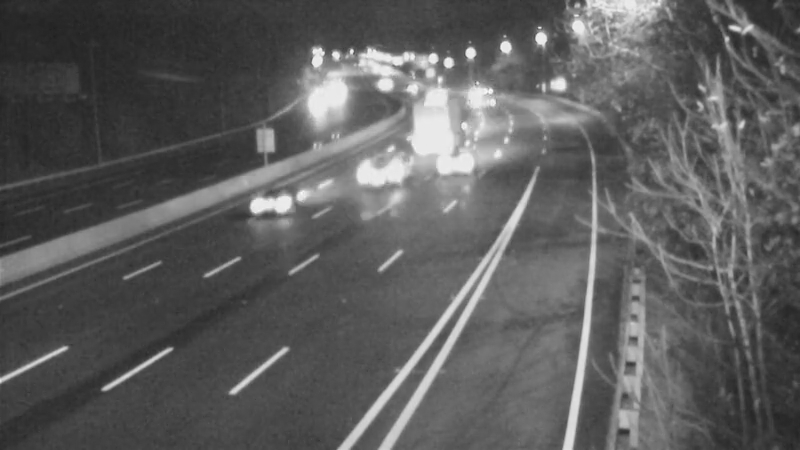vehicle: (420, 123, 500, 203), (345, 127, 425, 207), (228, 167, 308, 247), (360, 60, 410, 110), (385, 63, 435, 113), (459, 70, 509, 120), (409, 72, 459, 122), (411, 95, 461, 145), (293, 76, 343, 126)
